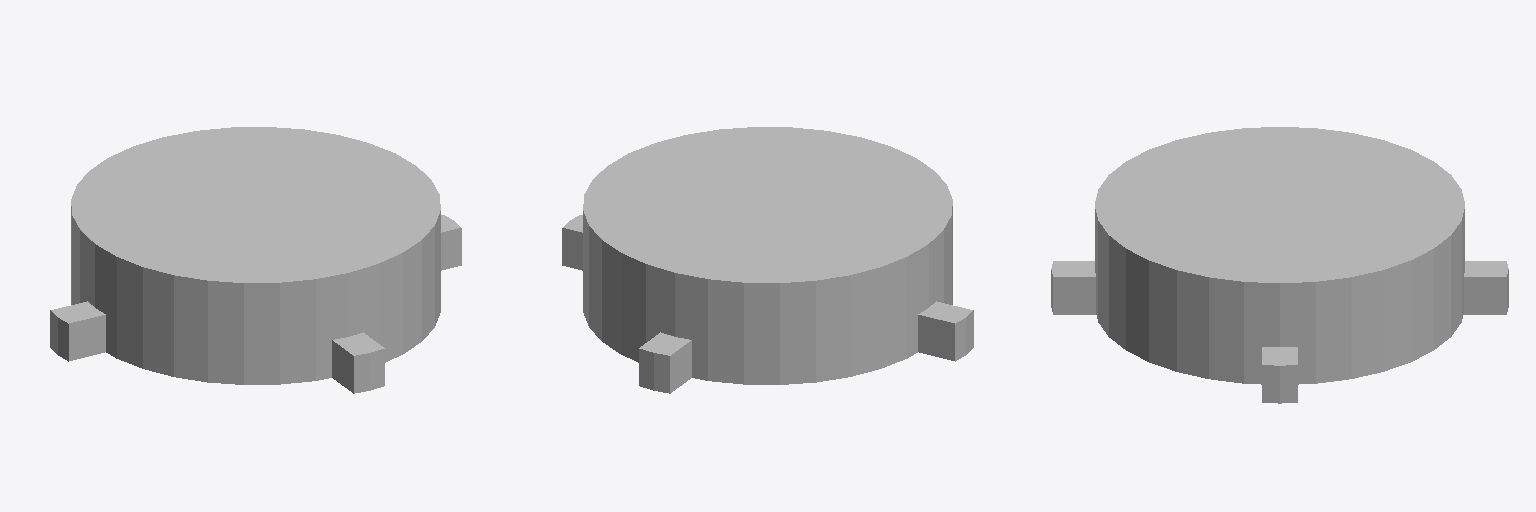
The picture shows the model from 3 angles: view 1: azimuth 30°, elevation 25°; view 2: azimuth 150°, elevation 25°; view 3: azimuth 270°, elevation 25°; orthographic projection.
Visible parts, largest first — view 1: Circle; view 2: Circle; view 3: Circle.
Part boxes in pixels (left/top/right/bottom): Circle: left=50, top=127, right=461, bottom=393; Circle: left=562, top=127, right=973, bottom=393; Circle: left=1051, top=127, right=1508, bottom=403.
Bounding box in the file's own units: 0.211 × 0.0519 × 0.211.